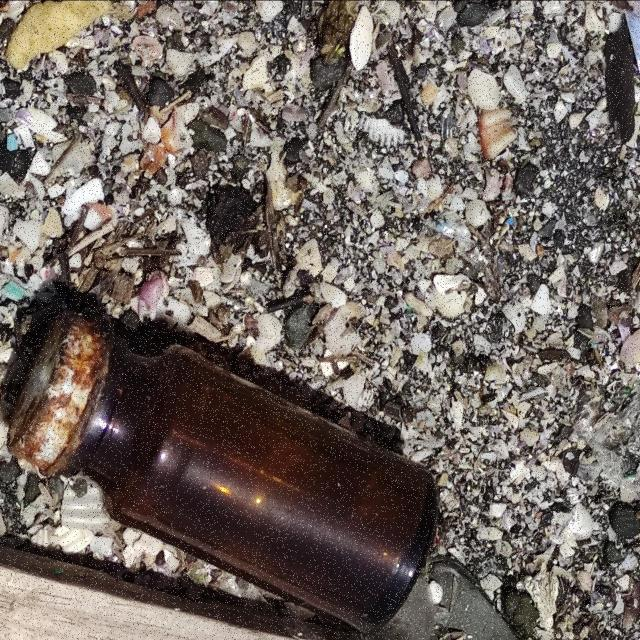glass_waste: (9, 294, 438, 631)
